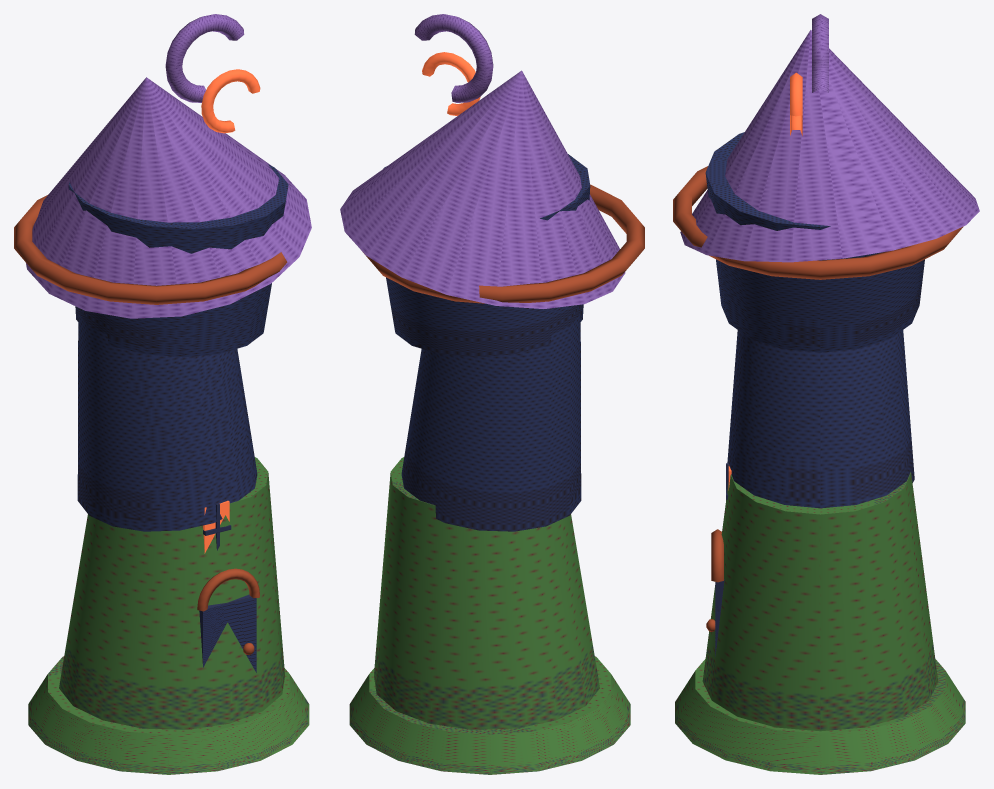
Rendered from batiment-tour-mage.glb.
3 renders of one model, left to right at view 1: azimuth 30°, elevation 25°; view 2: azimuth 150°, elevation 25°; view 3: azimuth 270°, elevation 25°, orthographic. The views are drawn at different scales.
Parts seen in each view (by area): view 1: LowerTower, CrookedRoof, MiddleTower, Foundation, UpperRoom, CrookedRoofRim, RoofCurl, TowerDoor, Crescent, TowerDoorTop; view 2: LowerTower, CrookedRoof, MiddleTower, Foundation, UpperRoom, CrookedRoofRim, RoofCurl, Crescent; view 3: LowerTower, CrookedRoof, MiddleTower, UpperRoom, Foundation, CrookedRoofRim, RoofCurl, Crescent, TowerDoorTop.
Part boxes in pixels (x1,y1,x2,y2): LowerTower: [59, 457, 284, 729]; CrookedRoof: [25, 77, 311, 318]; MiddleTower: [77, 314, 257, 531]; Foundation: [28, 656, 309, 774]; UpperRoom: [68, 164, 288, 357]; CrookedRoofRim: [14, 194, 287, 304]; RoofCurl: [165, 14, 244, 102]; TowerDoor: [199, 594, 256, 672]; Crescent: [201, 69, 260, 133]; TowerDoorTop: [197, 568, 259, 611]; LowerTower: [374, 457, 599, 729]; CrookedRoof: [340, 70, 625, 308]; MiddleTower: [401, 314, 581, 531]; Foundation: [349, 656, 630, 774]; UpperRoom: [383, 154, 590, 357]; CrookedRoofRim: [363, 184, 644, 303]; RoofCurl: [414, 14, 493, 102]; Crescent: [422, 52, 480, 115]; LowerTower: [702, 472, 938, 731]; CrookedRoof: [680, 30, 979, 262]; MiddleTower: [727, 330, 914, 508]; UpperRoom: [705, 132, 924, 352]; Foundation: [675, 659, 965, 774]; CrookedRoofRim: [673, 166, 963, 279]; RoofCurl: [812, 14, 828, 92]; Crescent: [790, 72, 802, 135]; TowerDoorTop: [711, 529, 723, 582].
Bounding box in the file's own units: 2.56 × 6.4 × 2.5.
3 materials, 3 textured.
